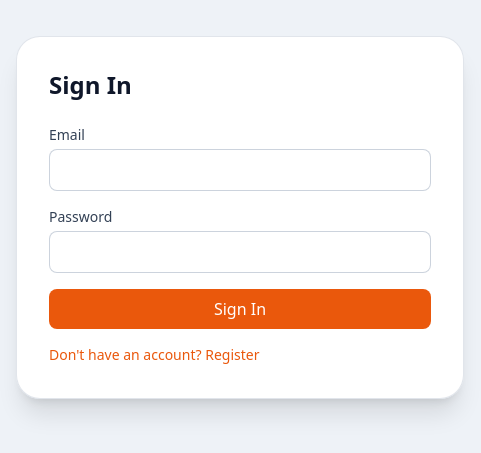
AuthPage › shows validation errors on empty submit
Step 1. Click the button "Sign In" → (240, 308), box [49, 288, 431, 328]
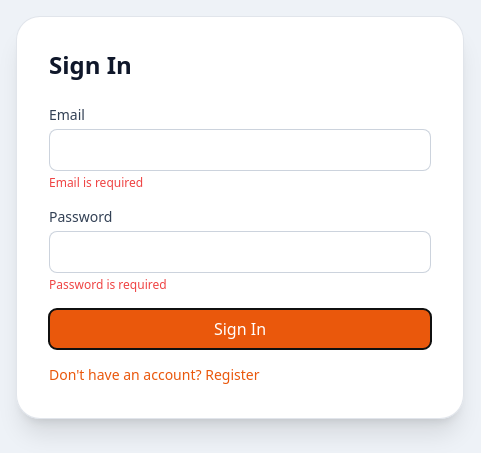
Expected: the text "Email is required" is shown, [49, 174, 143, 190]
Expected: the text "Password is required" is shown, [49, 276, 167, 292]
